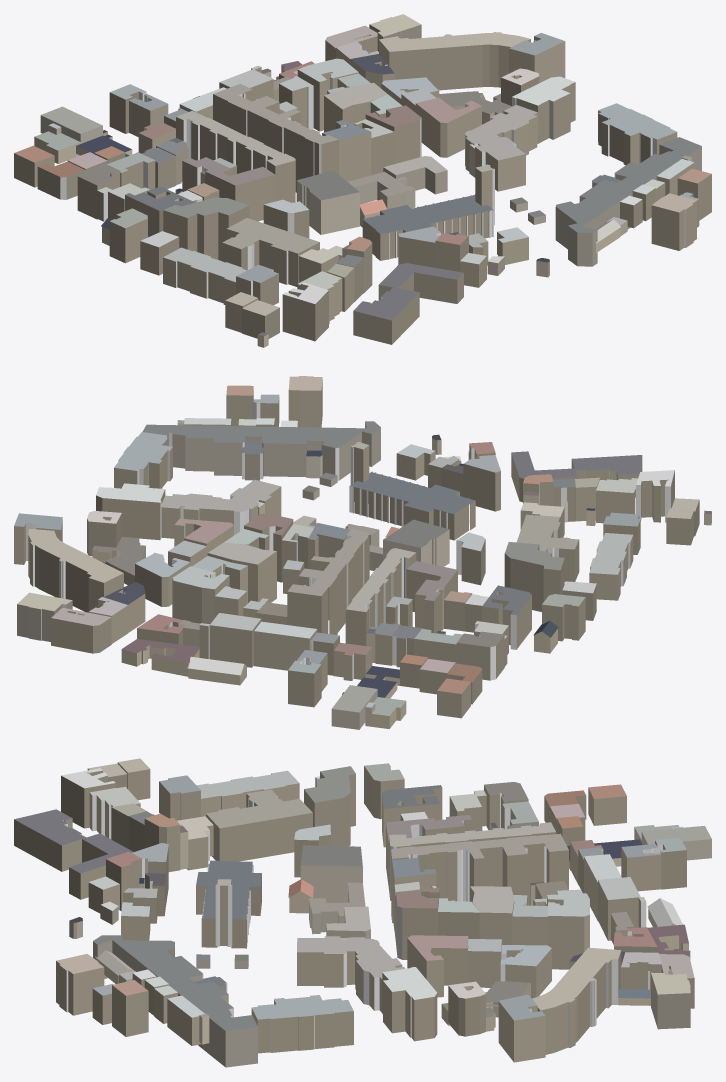
3 views of the same model, one above another, from view 1: azimuth 30°, elevation 25°; view 2: azimuth 150°, elevation 25°; view 3: azimuth 270°, elevation 25° (orthographic). The views are drawn at different scales.
Visible parts, largest first — view 1: tuile; view 2: tuile; view 3: tuile.
Part boxes in pixels (x1,y1,x2,y2): tuile: (14,14,711,347); tuile: (14,376,711,729); tuile: (14,758,711,1067).
Size of the model in its own units: 266 by 37.89 by 288.
